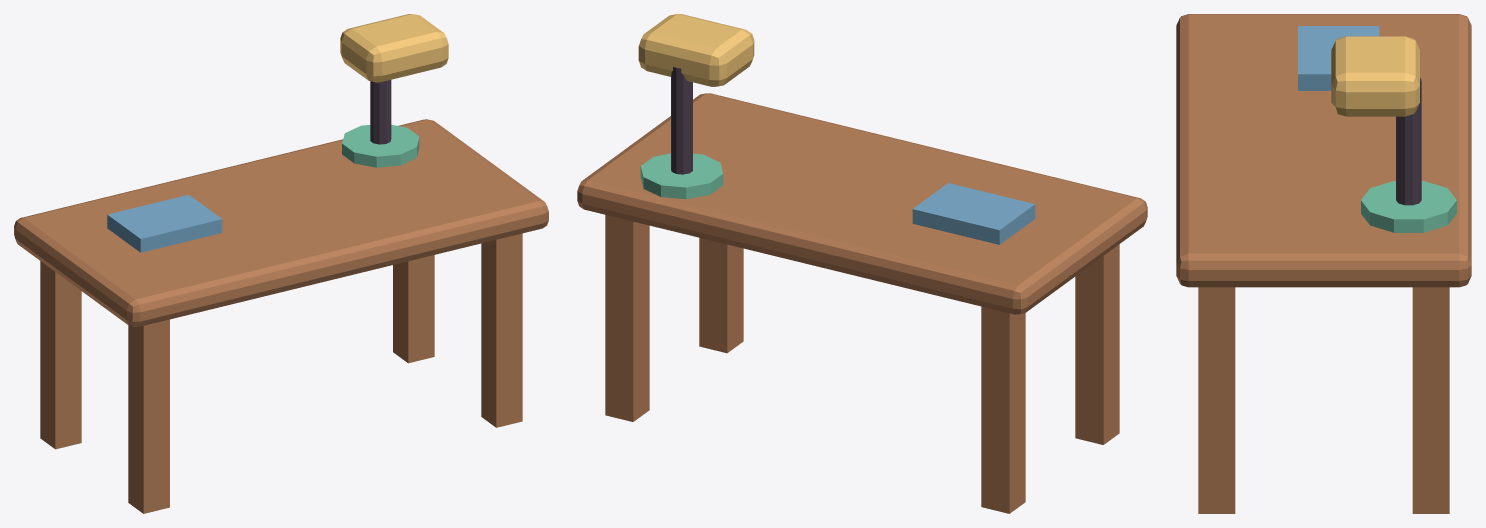
File: prop_meja_lv2.fbx
The picture shows the model from 3 angles, left to right: view 1: azimuth 30°, elevation 25°; view 2: azimuth 150°, elevation 25°; view 3: azimuth 270°, elevation 25°; orthographic projection. The views are drawn at different scales.
Visible parts, largest first — view 1: prop_meja_lv2; view 2: prop_meja_lv2; view 3: prop_meja_lv2.
Part boxes in pixels (x1,y1,x2,y2): prop_meja_lv2: (14,14,548,513); prop_meja_lv2: (577,14,1147,513); prop_meja_lv2: (1176,14,1471,513).
Size of the model in its own units: 160 by 128 by 80.
1 material, 1 textured.
